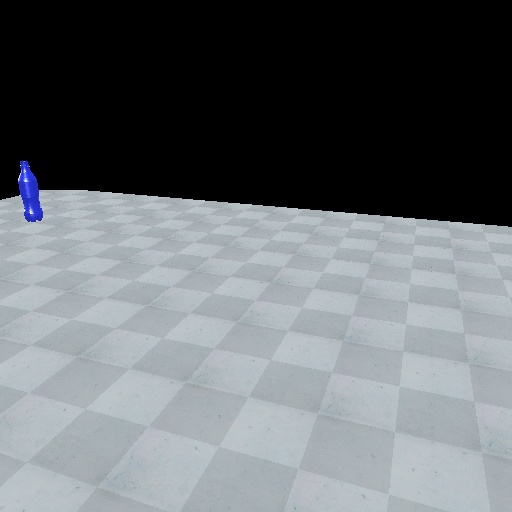bottle: (16, 158, 44, 222)
